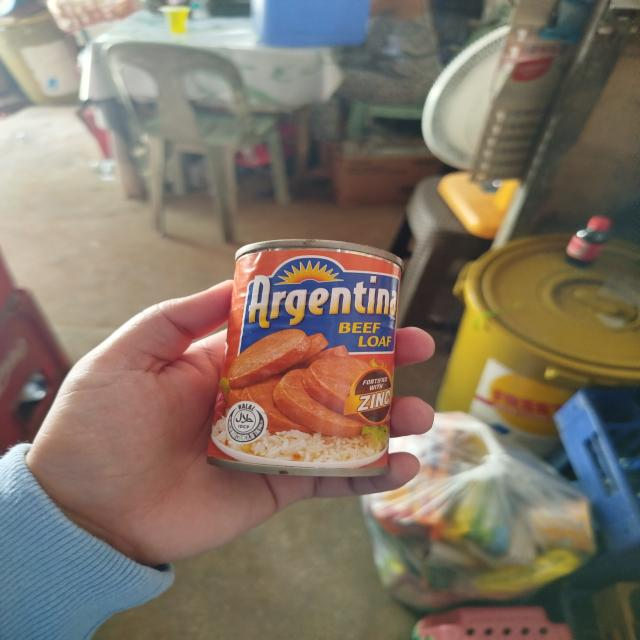metal: (196, 215, 416, 491)
plastic: (568, 211, 618, 265)
residual: (348, 400, 614, 620)
